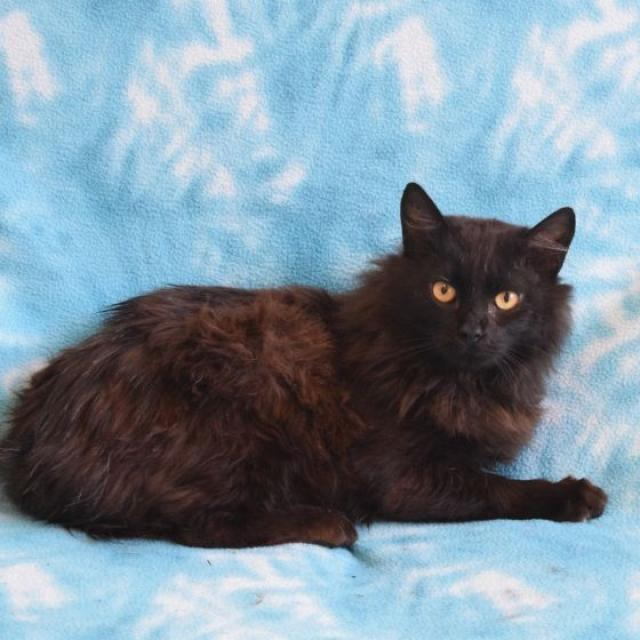domestic_long_hair_cat: (357, 167, 608, 435)
